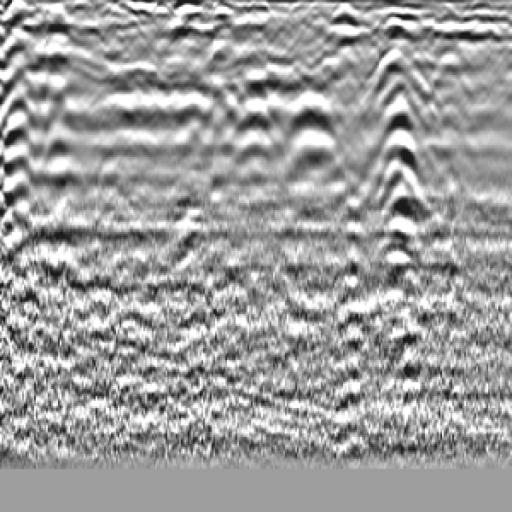metalic: (358, 42, 452, 237)
